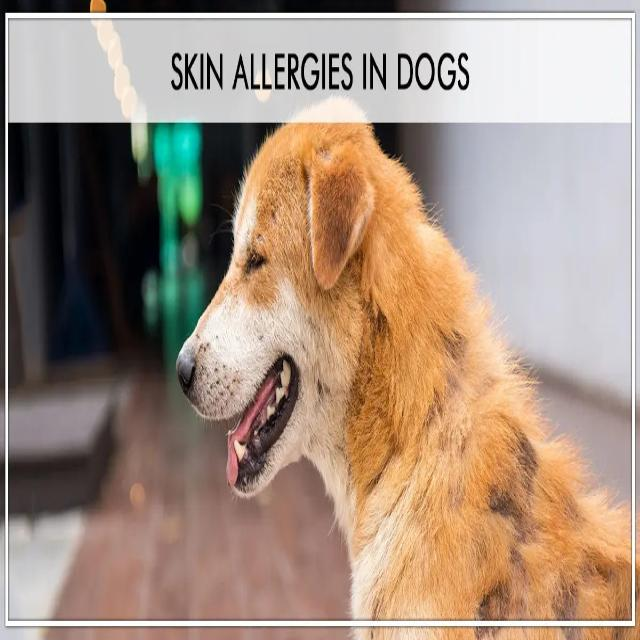allergic dermatitis: (460, 411, 533, 624), (547, 525, 613, 619)
